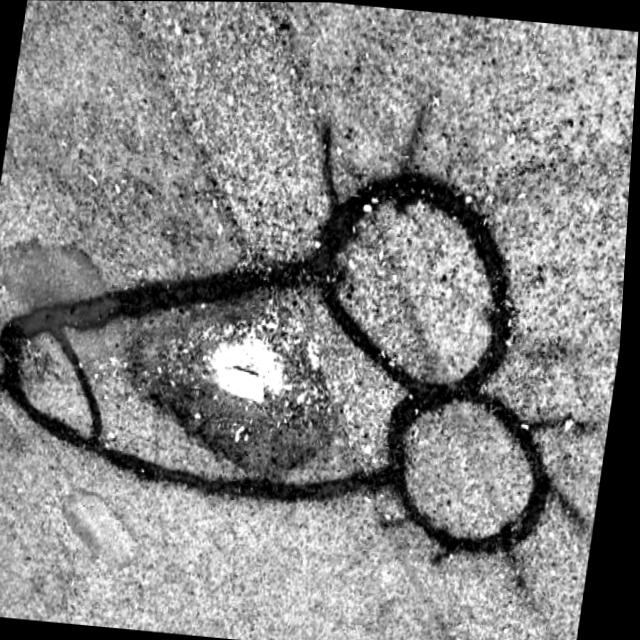pathole: (141, 293, 340, 474), (68, 491, 142, 569)
